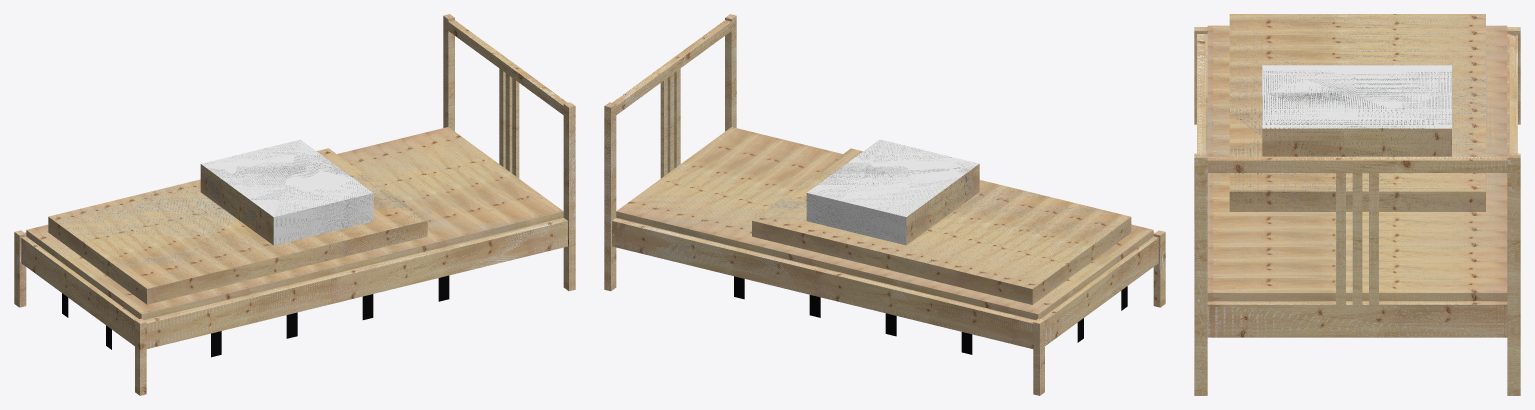
The model's file is Bett_Fjellse_middlePillow.dae.
3 renders of one model, left to right at view 1: azimuth 30°, elevation 25°; view 2: azimuth 150°, elevation 25°; view 3: azimuth 270°, elevation 25°, orthographic. The views are drawn at different scales.
Parts seen in each view (by area): view 1: SketchUp (×5); view 2: SketchUp (×5); view 3: SketchUp (×5).
Part boxes in pixels (box(x1,y1,x2,y2)): SketchUp (×5): box(14, 14, 575, 395); SketchUp (×5): box(604, 14, 1165, 395); SketchUp (×5): box(1194, 14, 1520, 395).
Size of the model in its own units: 2.01 by 1 by 0.8097.
6 materials, 3 textured.
